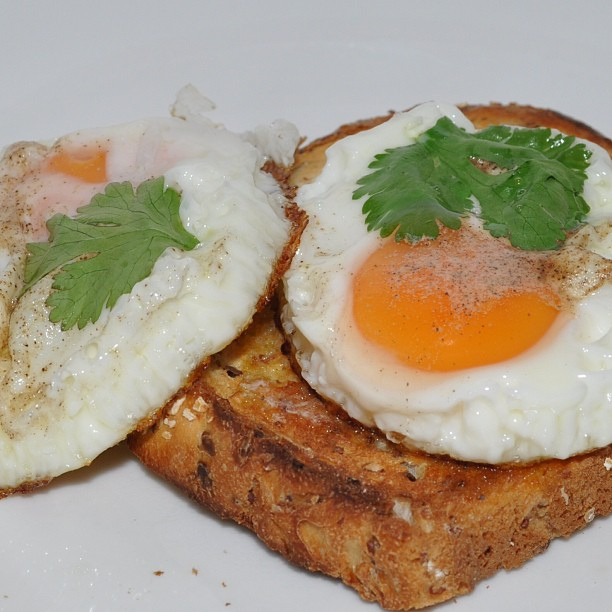fried egg: (1, 117, 260, 470), (329, 125, 612, 437)
slice of bread: (167, 332, 595, 599)
